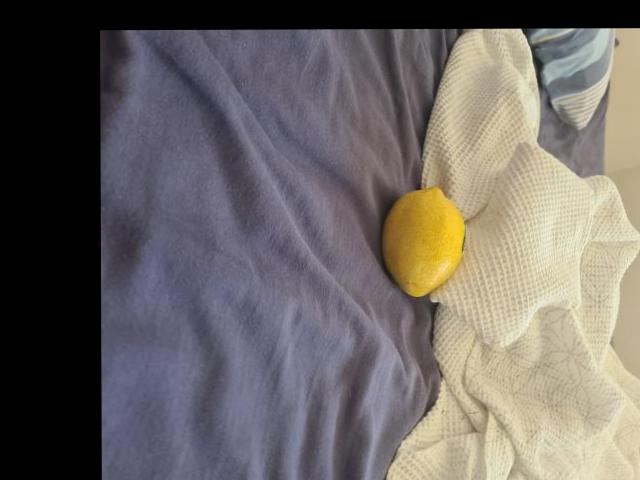lemon: (380, 189, 463, 299)
